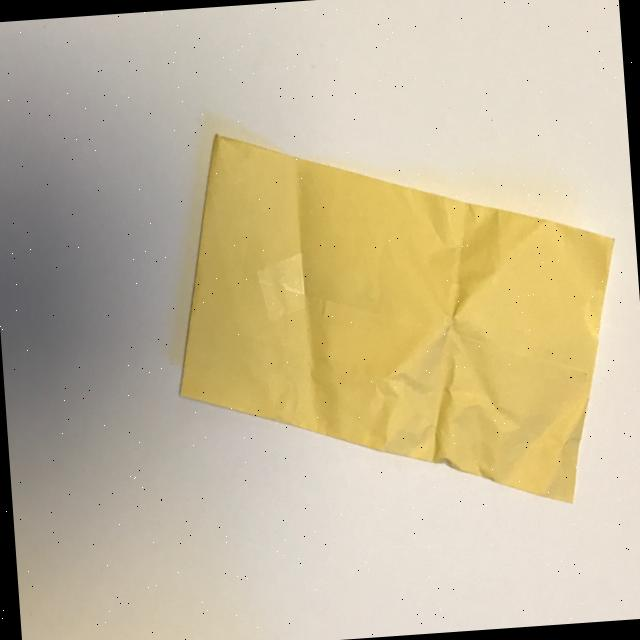paper: (160, 104, 632, 530)
